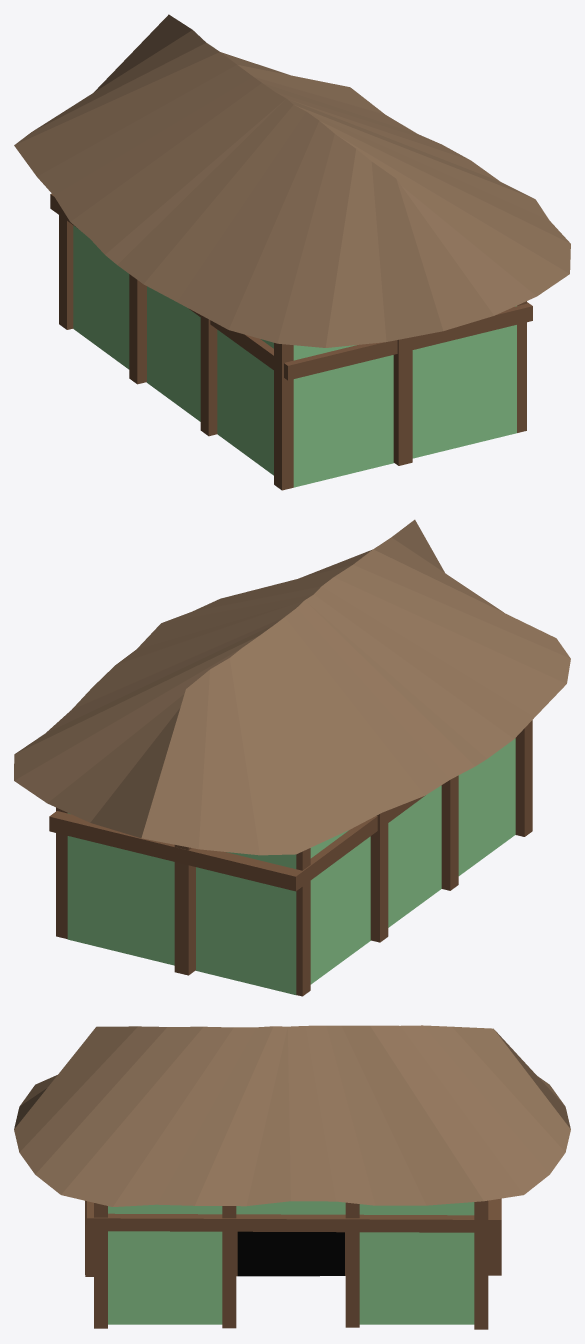
File: Hut.fbx
3 views of the same model, one above another, from view 1: azimuth 30°, elevation 25°; view 2: azimuth 150°, elevation 25°; view 3: azimuth 270°, elevation 25° (orthographic). The views are drawn at different scales.
Parts seen in each view (by area): view 1: Cylinder; view 2: Cylinder; view 3: Cylinder.
Part boxes in pixels (bbox=[...]): Cylinder: bbox=[14, 14, 570, 490]; Cylinder: bbox=[14, 519, 570, 996]; Cylinder: bbox=[14, 1025, 570, 1329].
Bounding box in the file's own units: 3.25 × 2.36 × 4.84.
